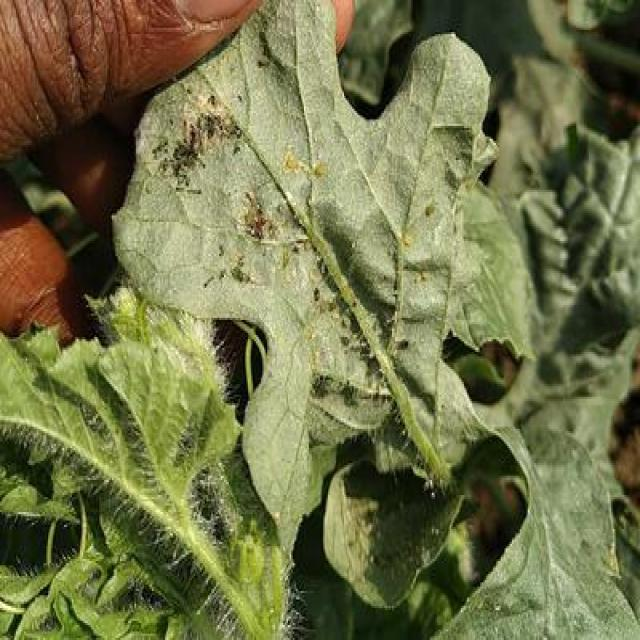Aphids: (310, 278, 426, 420), (149, 87, 253, 203), (386, 183, 442, 265), (234, 186, 290, 262), (270, 142, 346, 185)
